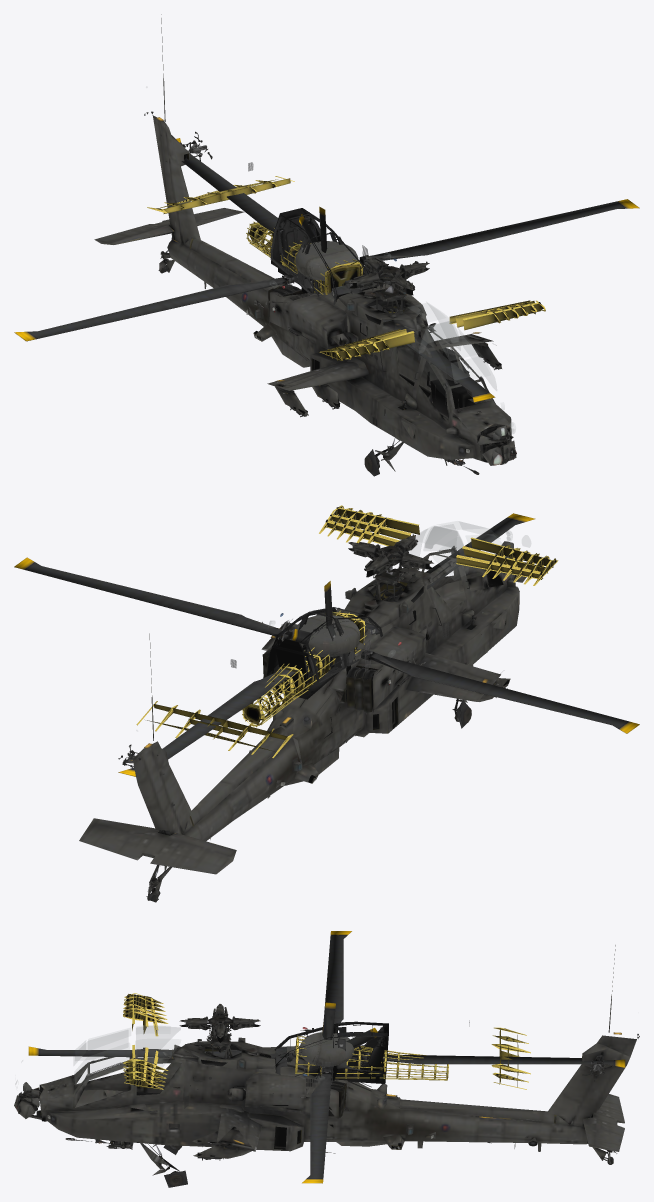
The picture shows the model from 3 angles, top to bottom: view 1: azimuth 30°, elevation 25°; view 2: azimuth 150°, elevation 25°; view 3: azimuth 270°, elevation 25°; orthographic projection. The views are drawn at different scales.
Visible parts, largest first — view 1: Object_12, Object_7, Object_11, Object_6, Object_23, Object_4; view 2: Object_12, Object_7, Object_11, Object_23, Object_6, Object_4; view 3: Object_12, Object_7, Object_11, Object_6, Object_23, Object_4, Object_5.
Part boxes in pixels (bbox=[...]): Object_12: bbox=[94, 14, 516, 476]; Object_7: bbox=[14, 138, 639, 402]; Object_11: bbox=[147, 176, 545, 360]; Object_6: bbox=[146, 87, 515, 439]; Object_23: bbox=[270, 208, 376, 304]; Object_4: bbox=[295, 241, 358, 280]; Object_12: bbox=[79, 534, 526, 902]; Object_7: bbox=[14, 513, 639, 776]; Object_11: bbox=[136, 505, 558, 758]; Object_23: bbox=[267, 607, 382, 699]; Object_6: bbox=[137, 521, 530, 730]; Object_4: bbox=[294, 615, 360, 662]; Object_12: bbox=[14, 945, 639, 1187]; Object_7: bbox=[28, 931, 625, 1183]; Object_11: bbox=[123, 993, 530, 1089]; Object_6: bbox=[15, 1025, 324, 1084]; Object_23: bbox=[274, 1021, 388, 1083]; Object_4: bbox=[299, 1032, 354, 1069]; Object_5: bbox=[303, 1002, 377, 1067].
Size of the model in its own units: 476607 by 203226 by 500008.
10 materials, 10 textured.
